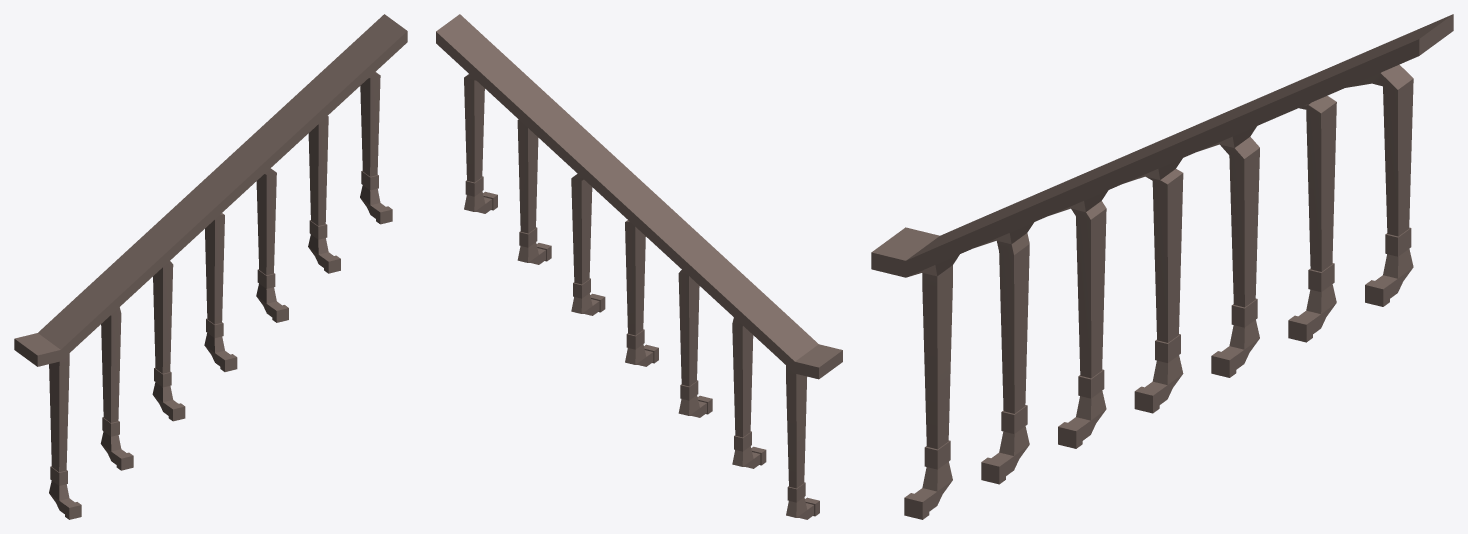
Rendered from HAND_L_001.fbx.
3 renders of one model, left to right at view 1: azimuth 30°, elevation 25°; view 2: azimuth 150°, elevation 25°; view 3: azimuth 330°, elevation 25°, orthographic. The views are drawn at different scales.
Parts seen in each view (by area): view 1: HAND_L.001; view 2: HAND_L.001; view 3: HAND_L.001.
Part boxes in pixels (x1,y1,x2,y2): HAND_L.001: (14, 14, 407, 519); HAND_L.001: (436, 14, 842, 519); HAND_L.001: (871, 14, 1453, 519).
Size of the model in its own units: 560 by 581 by 73.05.
